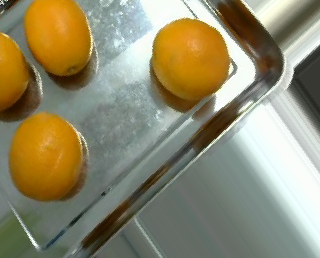Orange: (8, 111, 82, 198), (151, 17, 229, 99), (23, 1, 92, 76)
